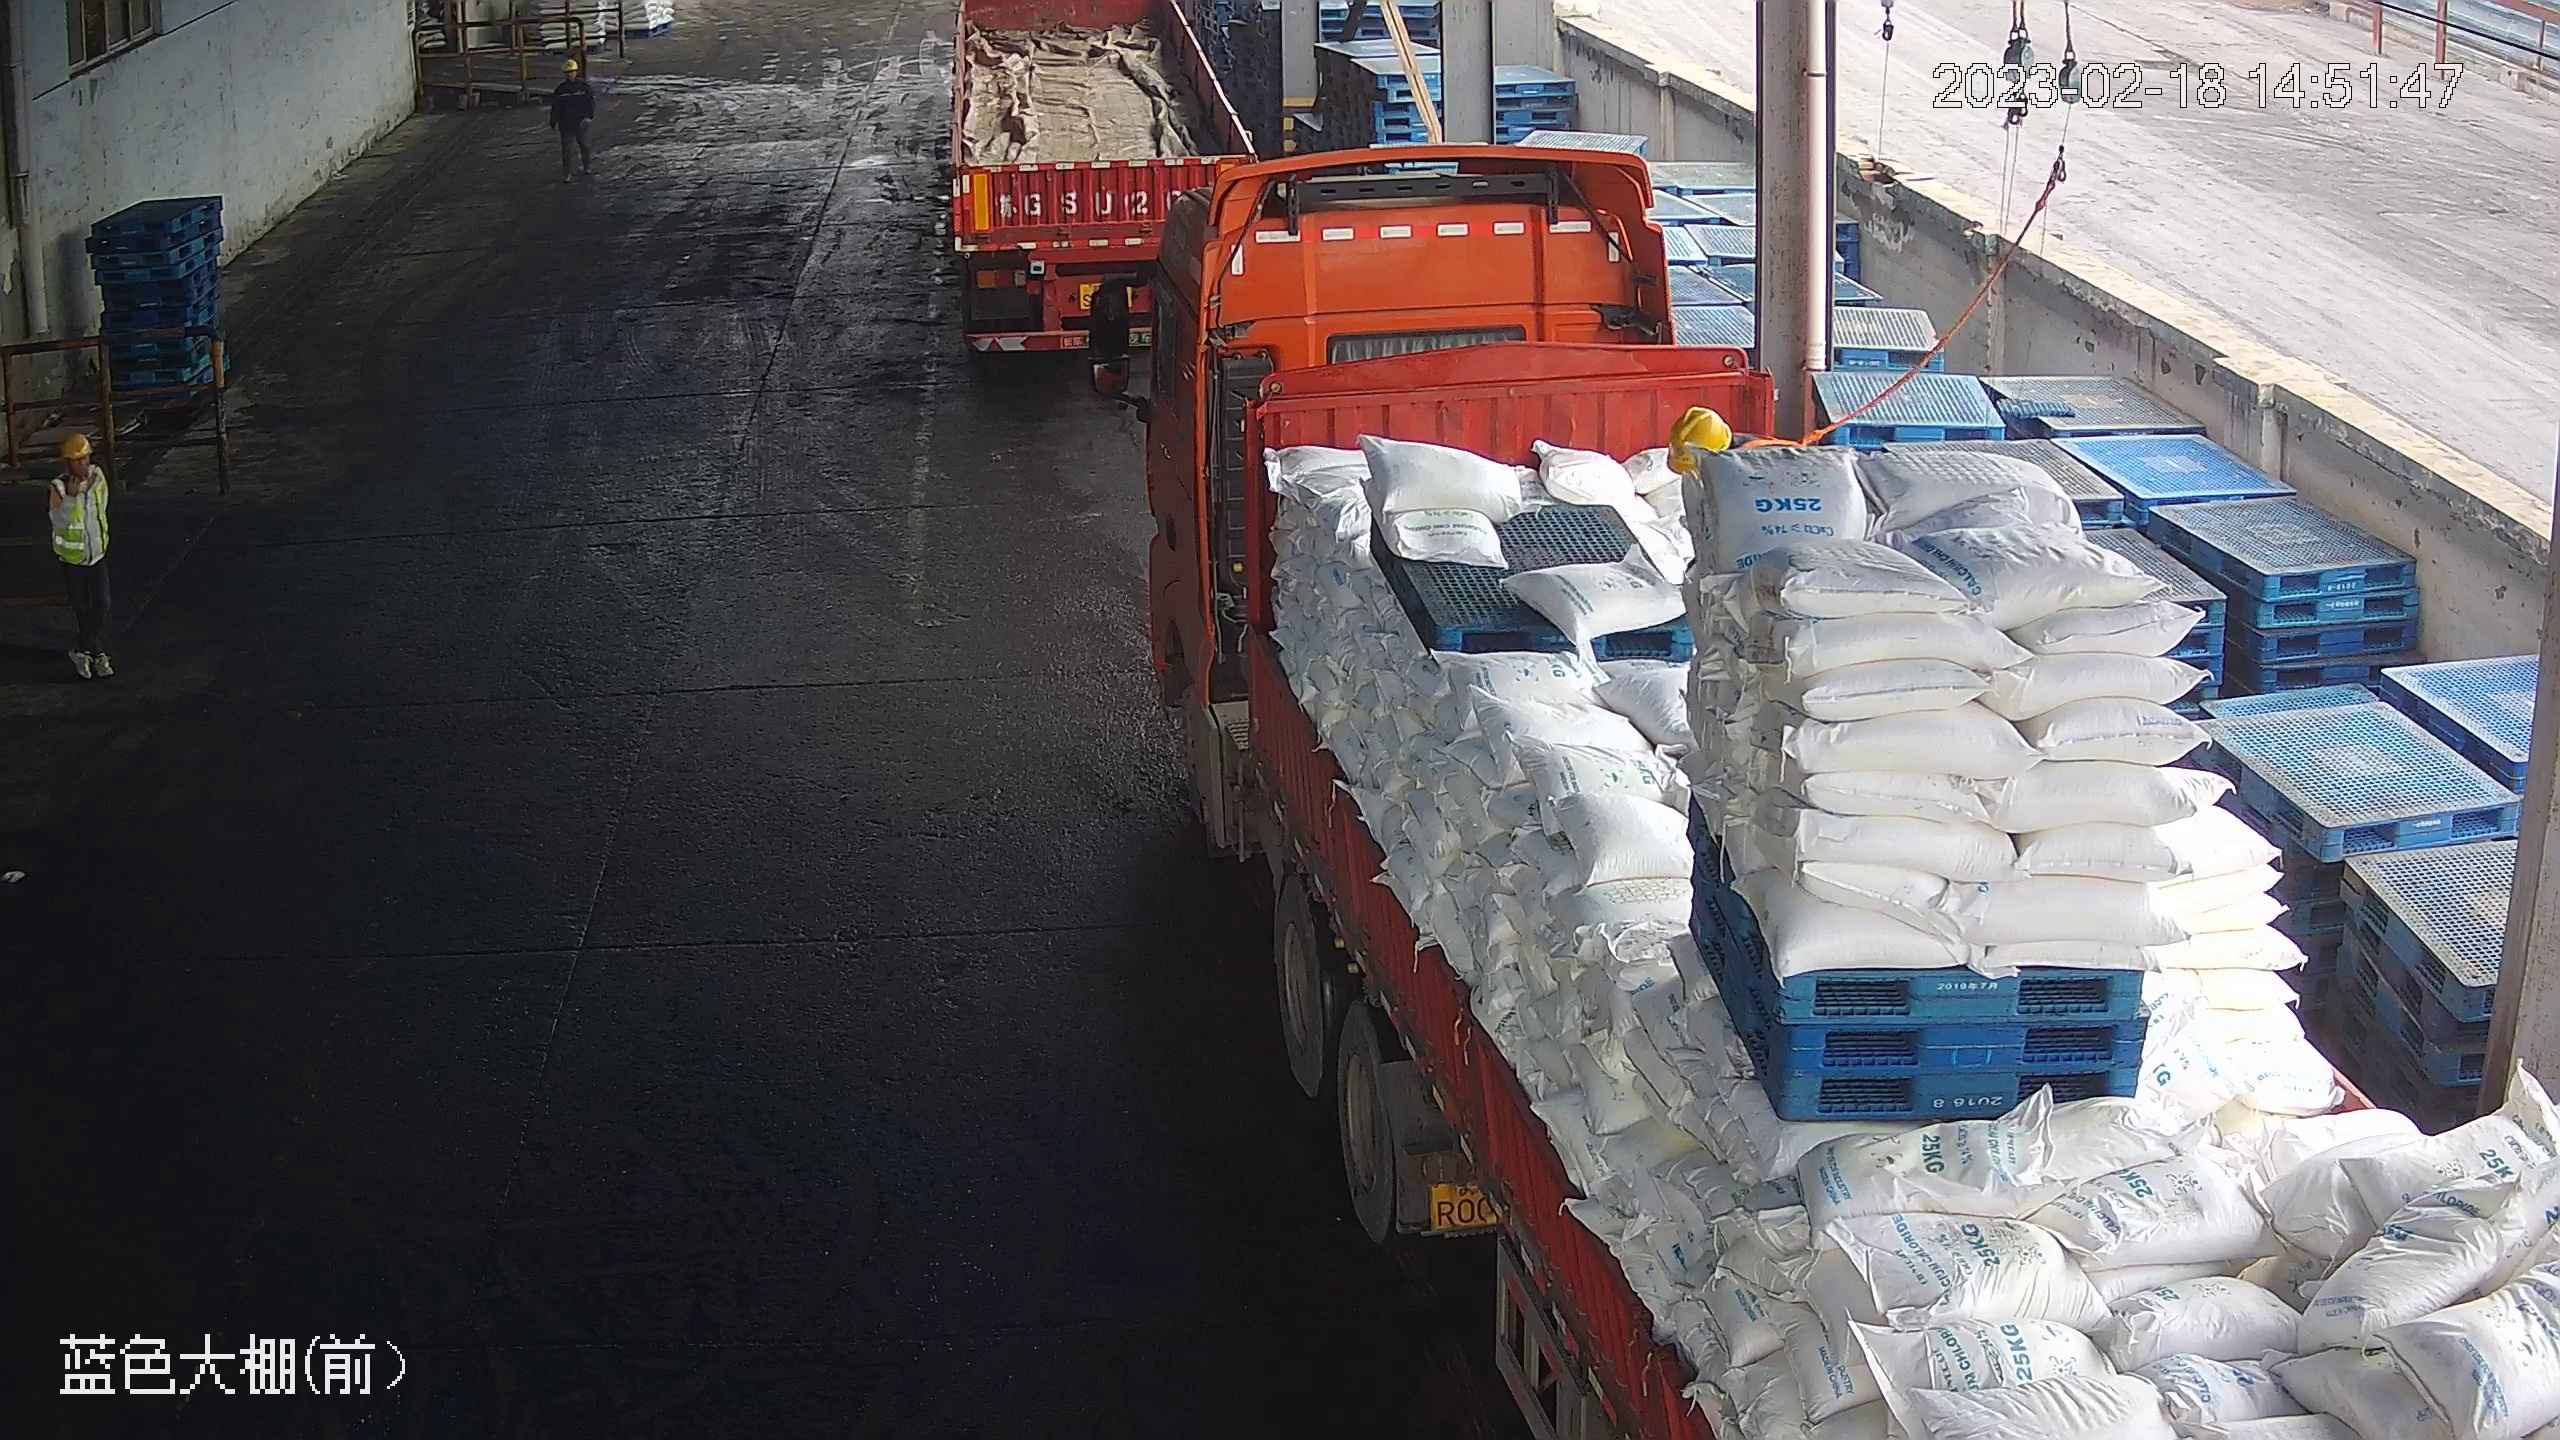head: (45, 431, 112, 503), (553, 58, 593, 99)
helmet: (1667, 403, 1732, 463), (62, 431, 94, 459), (561, 59, 578, 72)
people: (39, 428, 121, 694), (547, 57, 597, 181)
truck: (1062, 159, 2556, 1440), (929, 1, 1281, 343)
